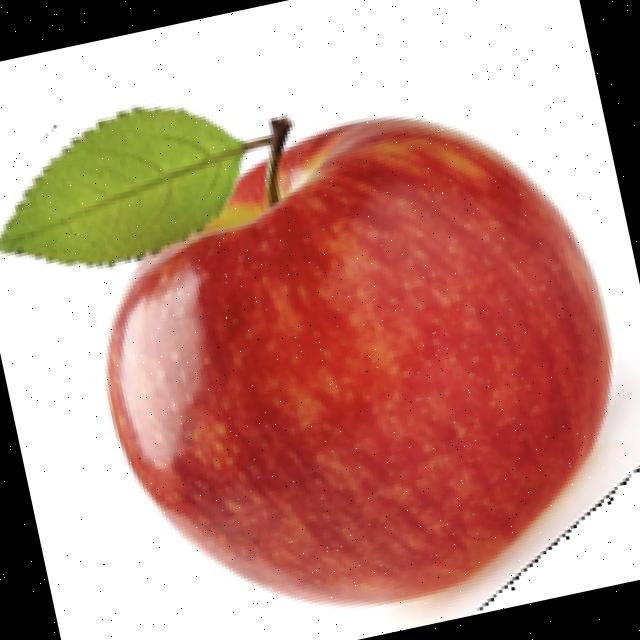apple: (0, 101, 637, 621)
